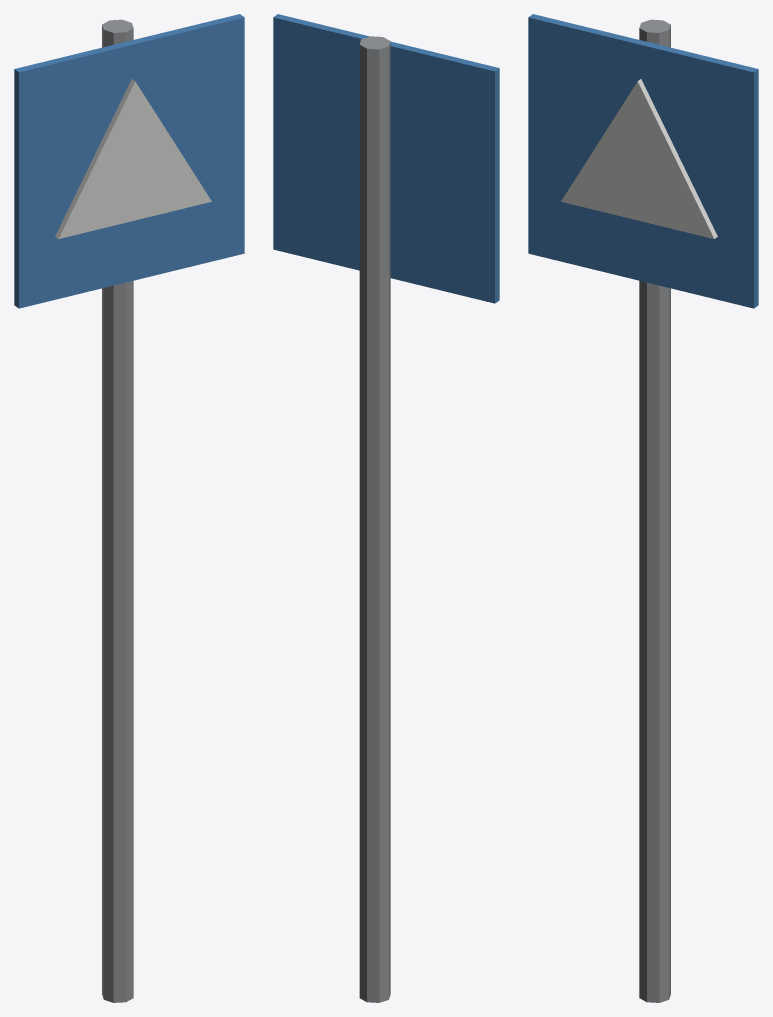
File: sign-crossing.glb
3 views of the same model, side by side, from view 1: azimuth 30°, elevation 25°; view 2: azimuth 150°, elevation 25°; view 3: azimuth 330°, elevation 25° (orthographic).
Visible parts, largest first — view 1: sign-crossing; view 2: sign-crossing; view 3: sign-crossing.
Part boxes in pixels (x1=…): sign-crossing: x1=14, y1=14, x2=244, y2=1002; sign-crossing: x1=273, y1=14, x2=499, y2=1002; sign-crossing: x1=528, y1=14, x2=758, y2=1002.
Size of the model in its own units: 0.5599 by 2.3 by 0.1101.
